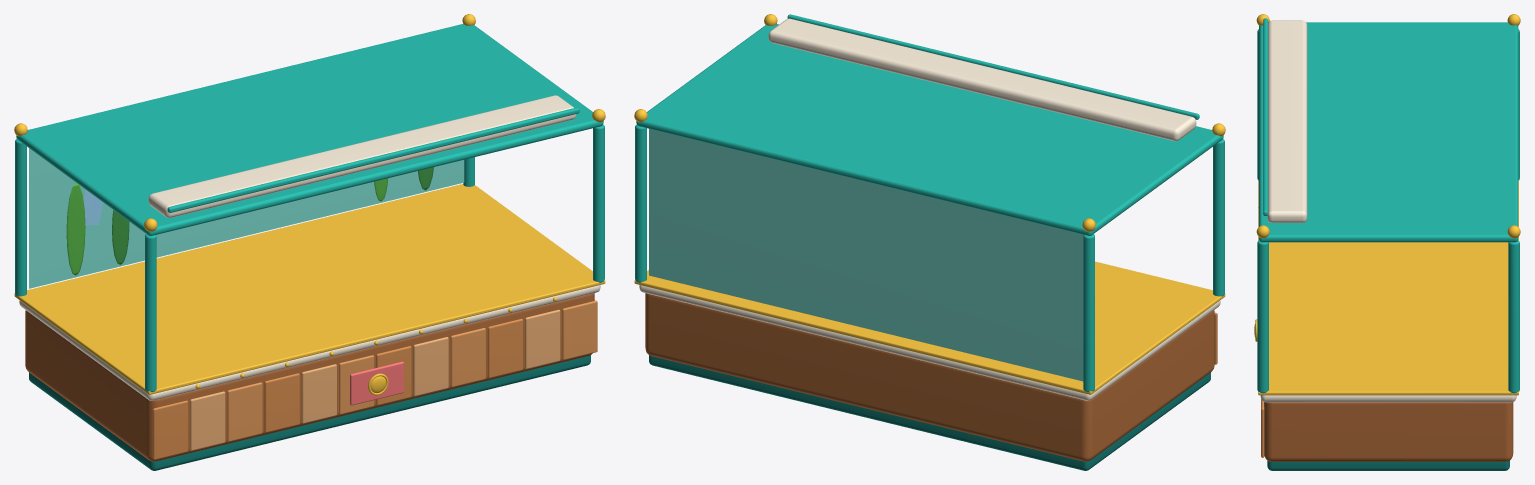
The model's file is TankShow.fbx.
3 renders of one model, left to right at view 1: azimuth 30°, elevation 25°; view 2: azimuth 150°, elevation 25°; view 3: azimuth 270°, elevation 25°, orthographic. The views are drawn at different scales.
Parts seen in each view (by area): view 1: TankShow mesh; view 2: TankShow mesh; view 3: TankShow mesh.
Boxes of the visible parts, x1,y1,x2,y2 form: TankShow mesh: (14,14,605,470); TankShow mesh: (634,14,1225,470); TankShow mesh: (1254,14,1520,470).
Bounding box in the file's own units: 3.09 × 1.69 × 1.6.
